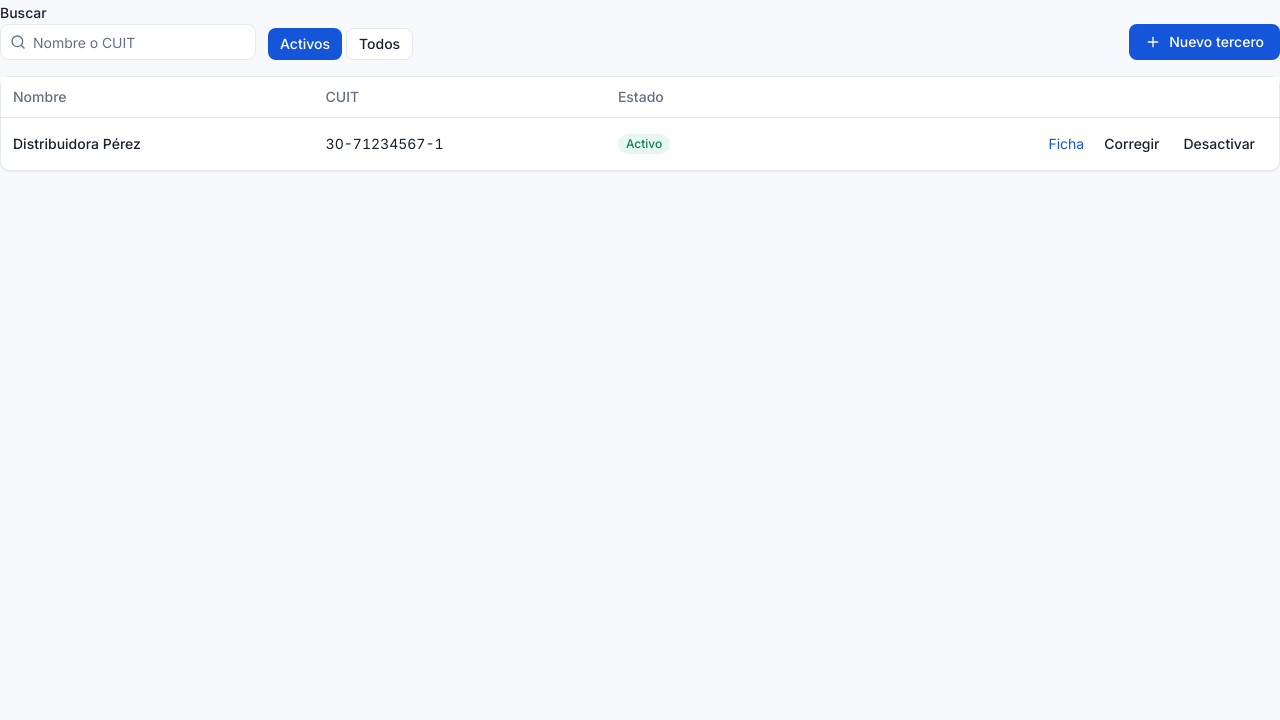
Test: Terceros of the platform › a platform admin registers one, confirming a homonym with a reason
Click the button "Nuevo tercero". click: click(1205, 42)
box: x1=1129 y1=24 x2=1279 y2=60
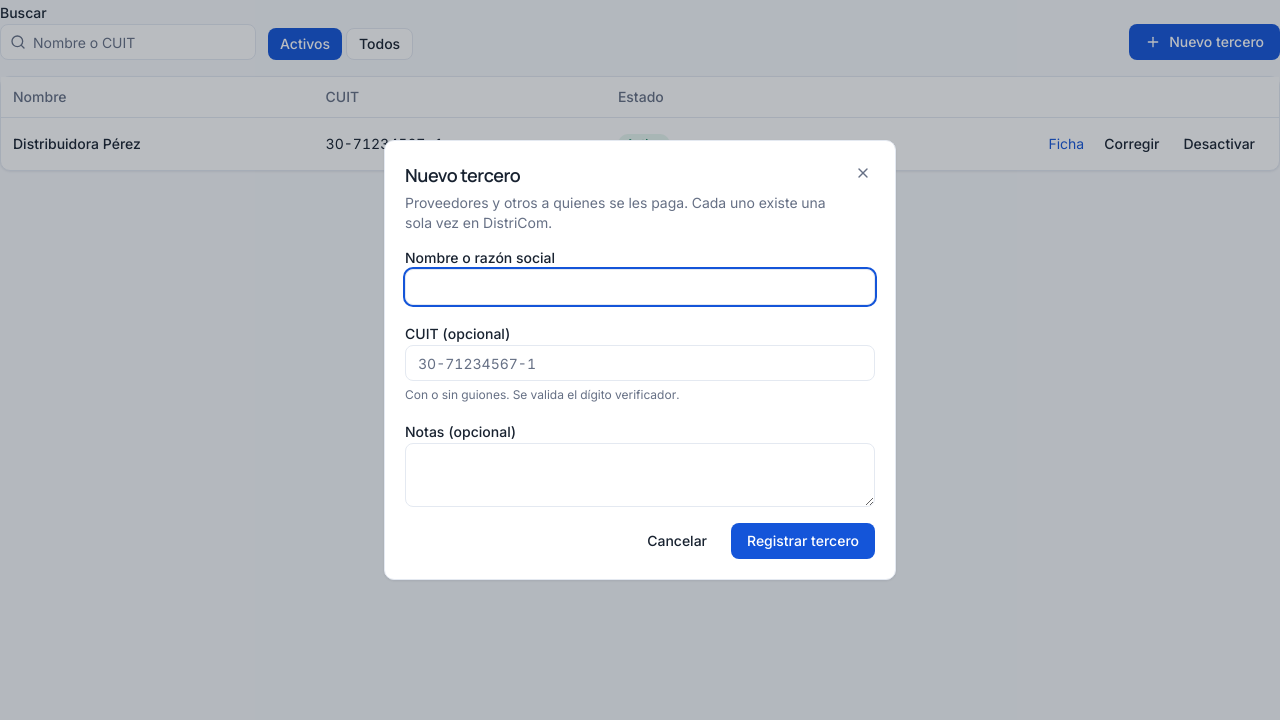
Type "  Fletes   Sur " into the field labelled "Nombre o razón social". click: (640, 287)
box: x1=405 y1=269 x2=875 y2=305
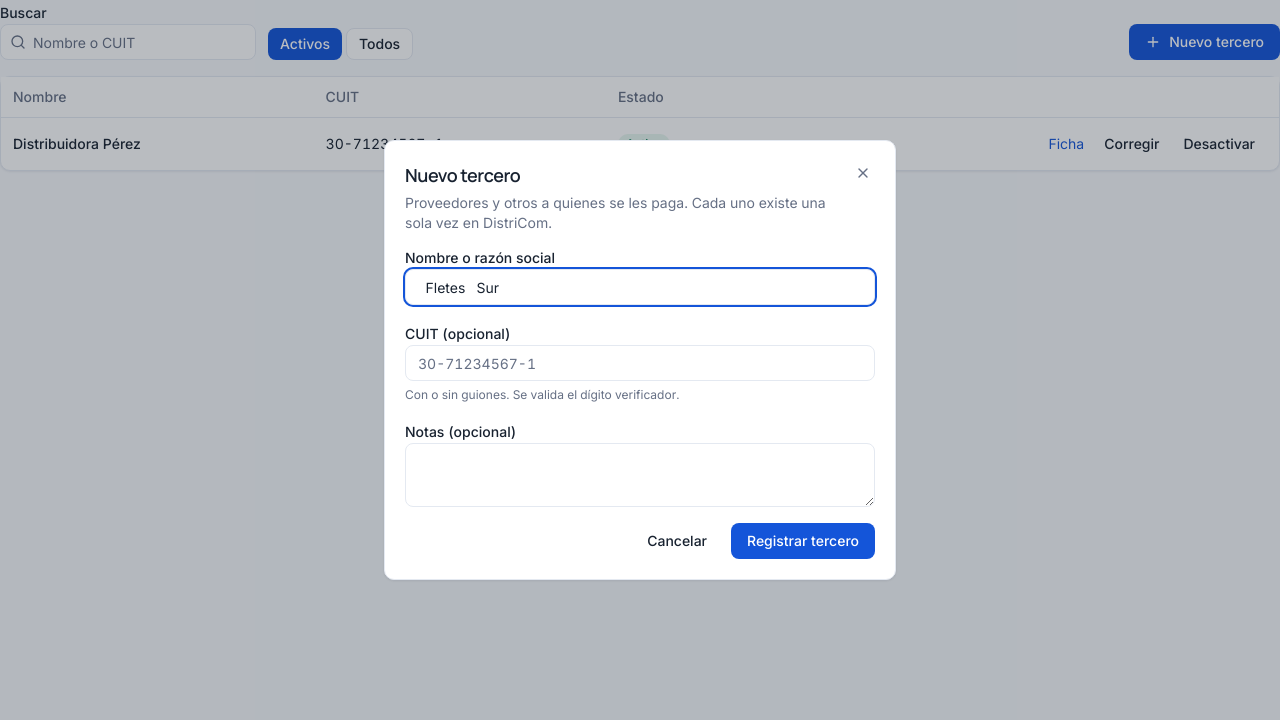
Click the button "Registrar tercero". click: click(803, 541)
box: x1=731 y1=523 x2=875 y2=559
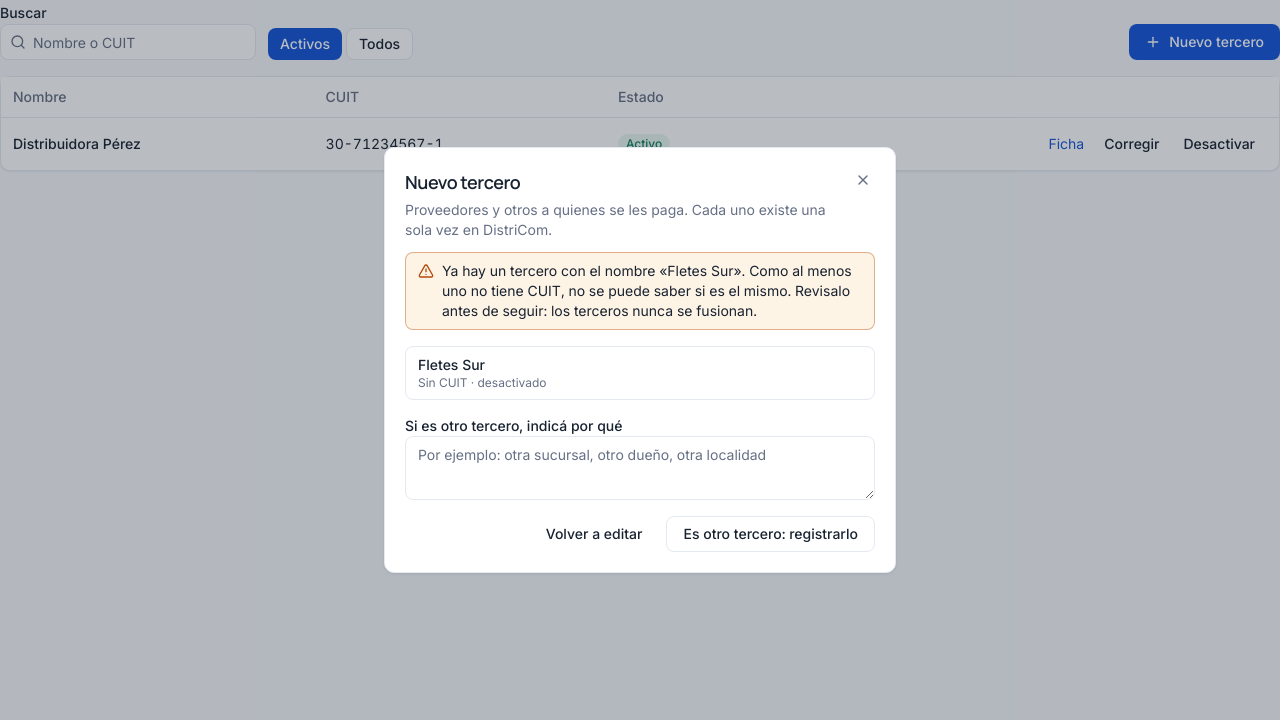
Now the text "Ya hay un tercero con el nombre «Fletes Sur»" is shown, box x1=442 y1=261 x2=862 y2=321
Now the text "Sin CUIT · desactivado" is shown, box x1=418 y1=375 x2=547 y2=391
Type "Otro dueño" into the text box labelled "Si es otro tercero, indicá por qué". click: (640, 468)
box: x1=405 y1=436 x2=875 y2=500
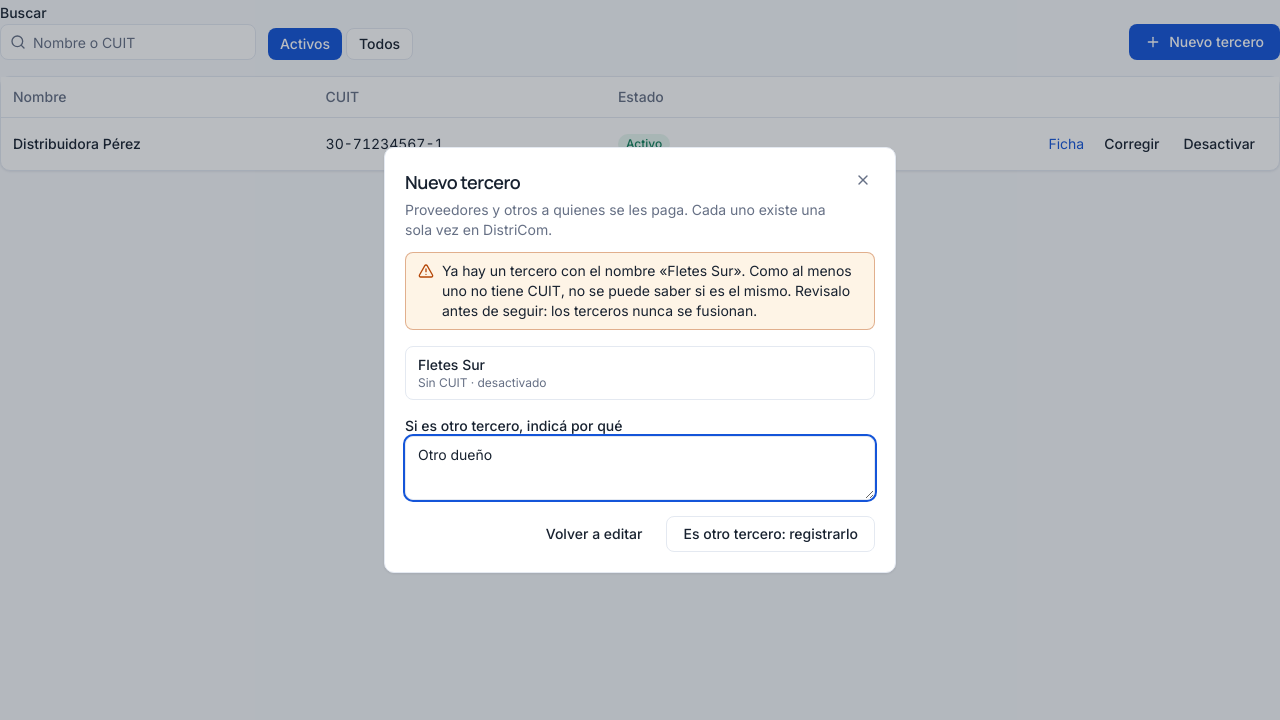
Click the button "Es otro tercero: registrarlo". click: click(771, 534)
box: x1=666 y1=516 x2=875 y2=552
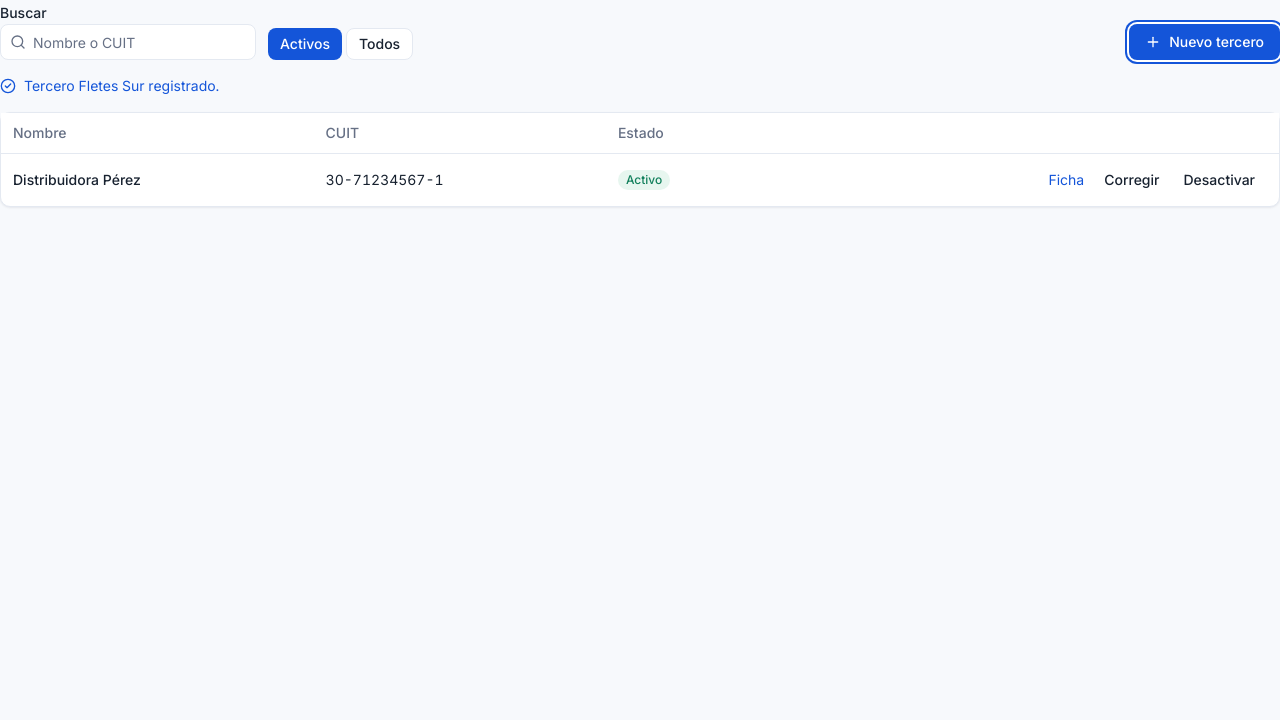
Now the message reads "Tercero Fletes Sur registrado.", box x1=24 y1=77 x2=219 y2=94
